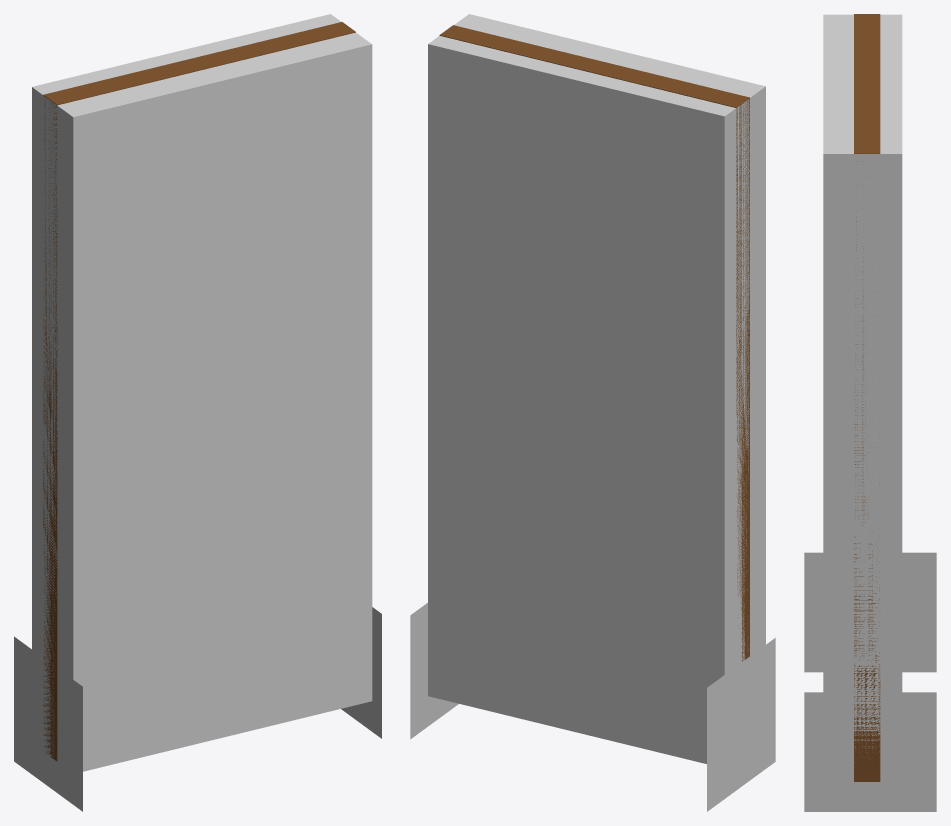
Rendered from door.glb.
The picture shows the model from 3 angles, left to right: view 1: azimuth 30°, elevation 25°; view 2: azimuth 150°, elevation 25°; view 3: azimuth 270°, elevation 25°; orthographic projection. The views are drawn at different scales.
Parts seen in each view (by area): view 1: CTRL_Hole, DoorFrame, CTRL_Baseboard; view 2: CTRL_Hole, CTRL_Baseboard, DoorFrame; view 3: CTRL_Hole, CTRL_Baseboard, DoorFrame.
Part boxes in pixels (left/top/right/bottom): CTRL_Hole: left=32, top=14, right=372, bottom=771; DoorFrame: left=43, top=22, right=355, bottom=761; CTRL_Baseboard: left=14, top=607, right=381, bottom=811; CTRL_Hole: left=428, top=14, right=765, bottom=763; CTRL_Baseboard: left=410, top=603, right=775, bottom=811; DoorFrame: left=439, top=25, right=749, bottom=661; CTRL_Hole: left=823, top=14, right=902, bottom=782; CTRL_Baseboard: left=804, top=552, right=936, bottom=811; DoorFrame: left=854, top=14, right=880, bottom=781.
Size of the model in its own units: 1.7 by 3.73 by 0.6784.
